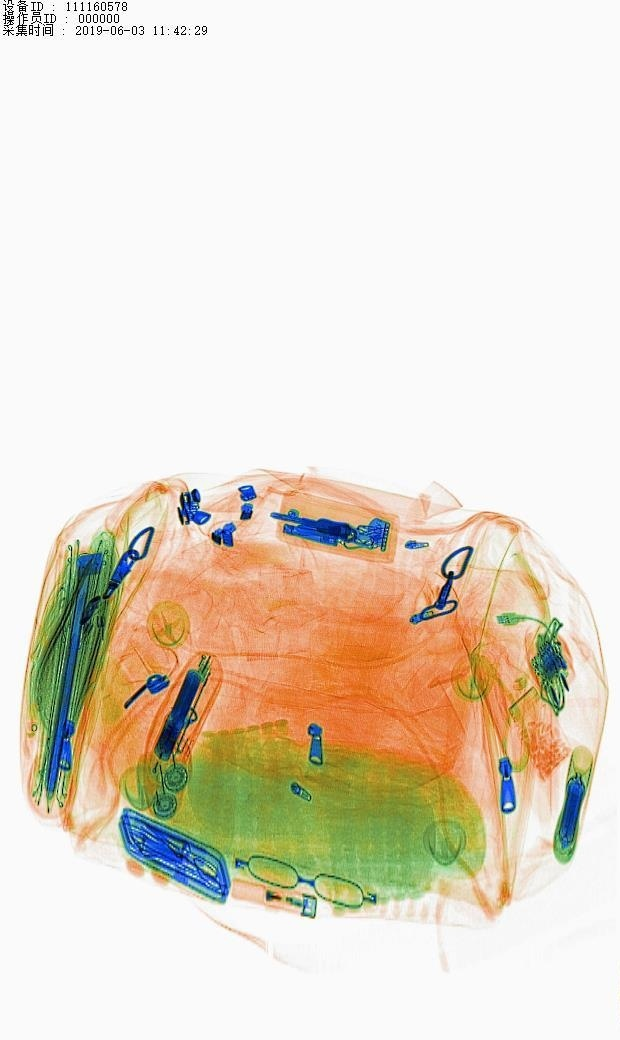NonmetallicFire: (231, 875, 340, 932)
